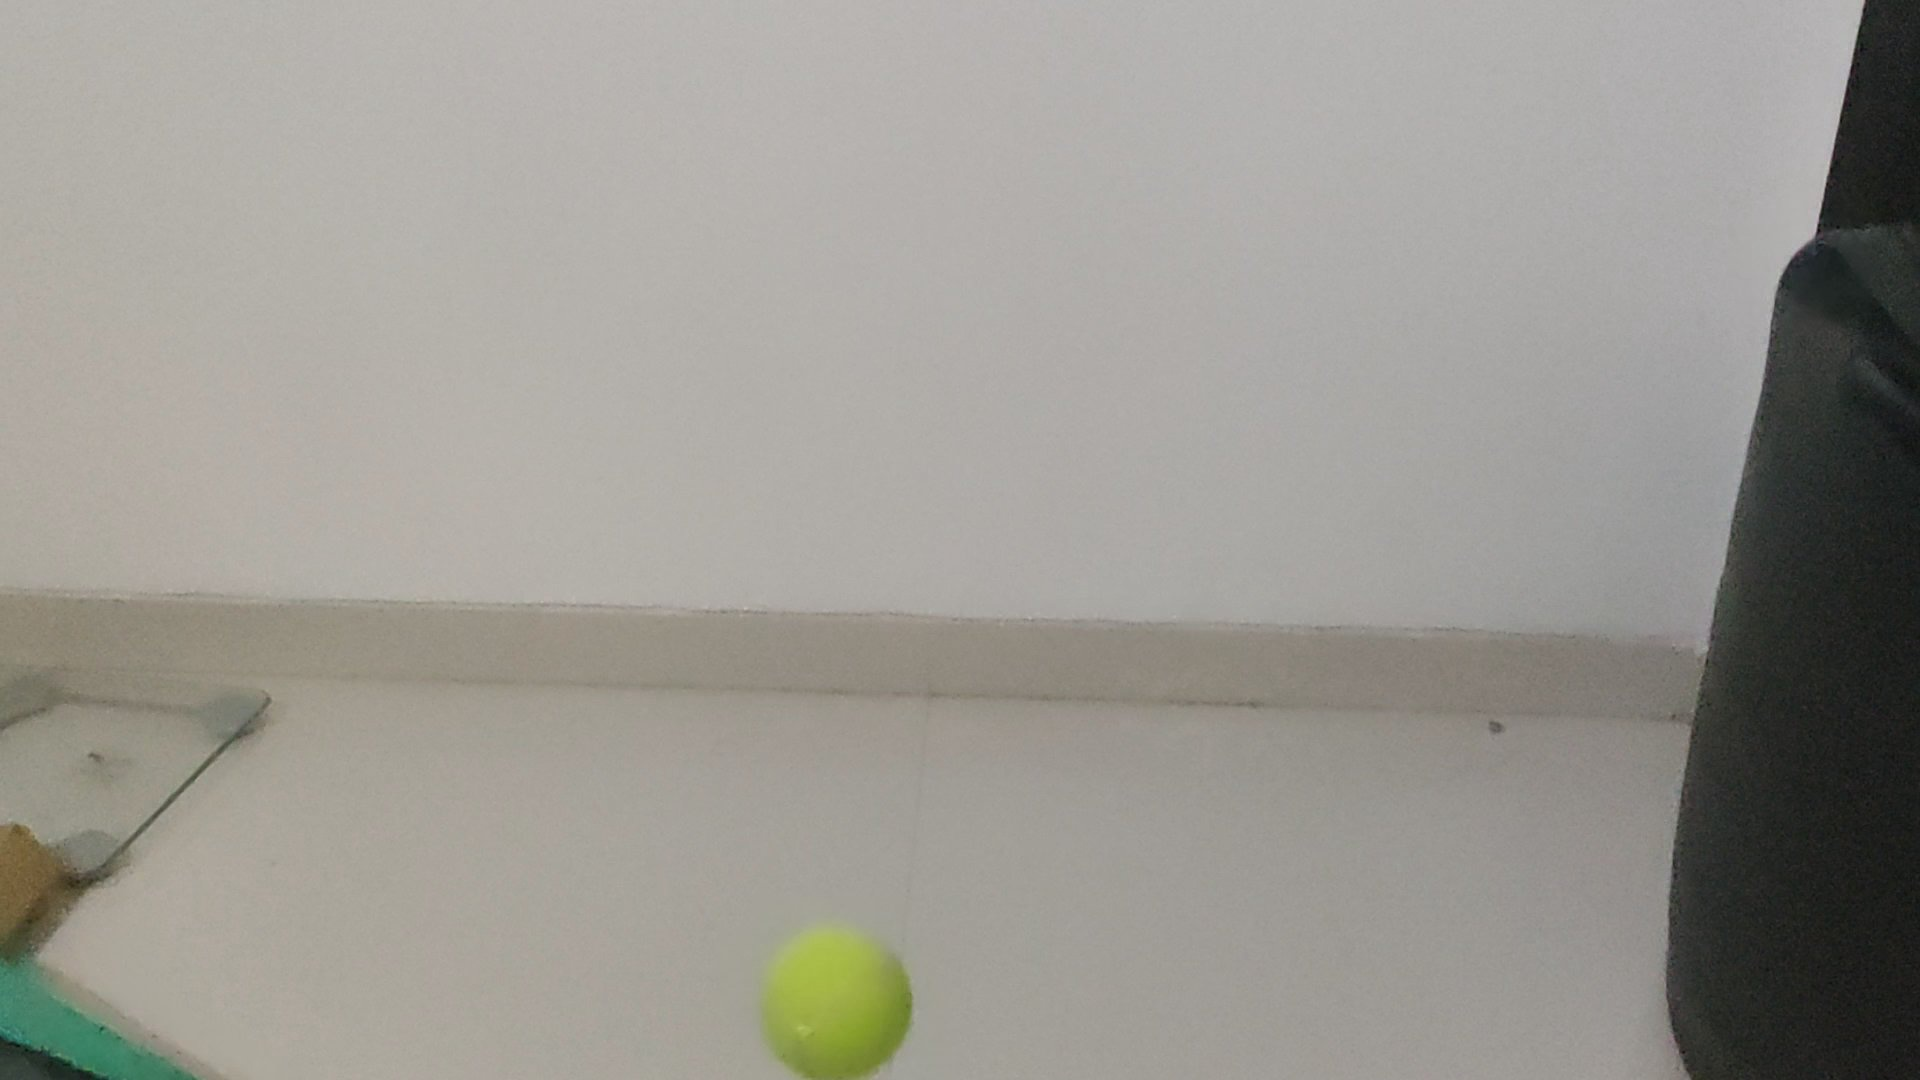Tennis-Ball: (762, 927, 912, 1080)
